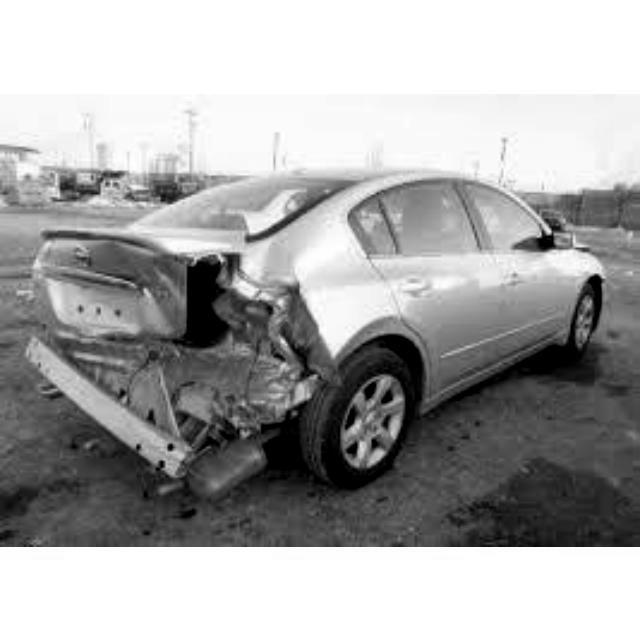boot-dent: (60, 240, 244, 335)
quaterpanel-dent: (259, 280, 386, 368)
rear-bumper-dent: (72, 374, 254, 474)
